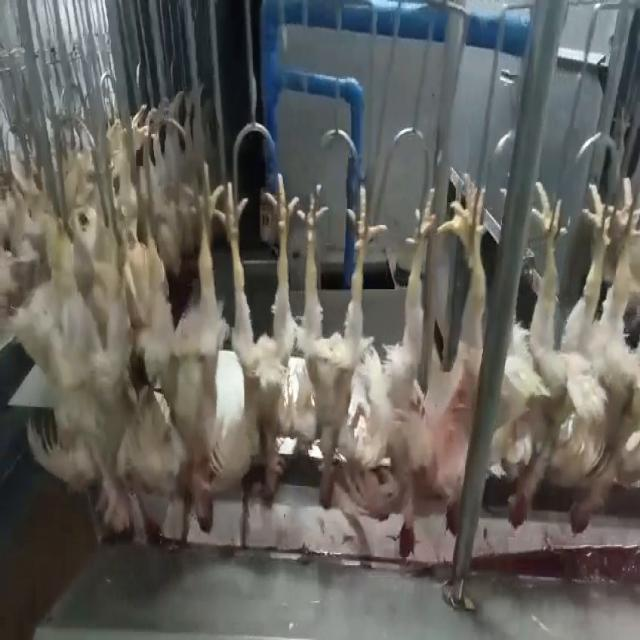chicken: (392, 162, 494, 554), (489, 169, 600, 527), (128, 154, 226, 538), (349, 172, 443, 570), (560, 171, 640, 539), (291, 184, 375, 509), (222, 166, 298, 507), (59, 151, 129, 510)
